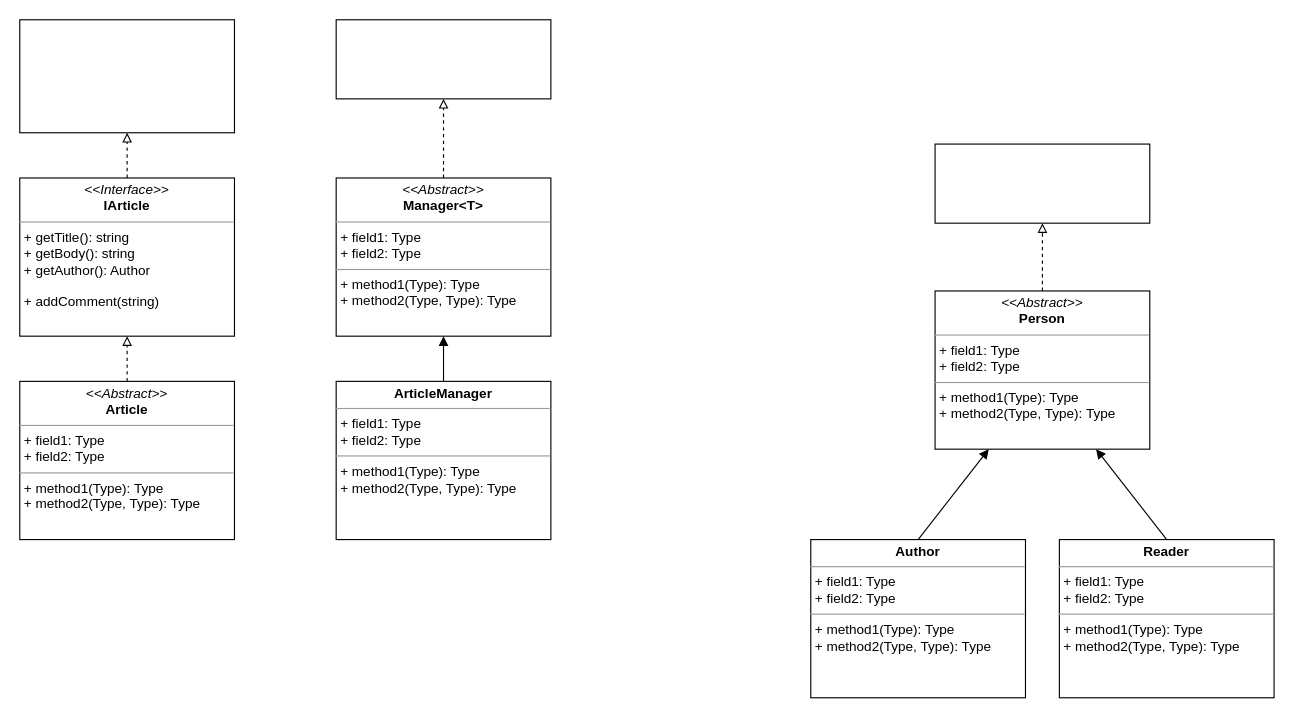
Image size: 1294x718. Some labels were removed from this diagram. The centre of each missing label's shape, as x and y in pixels:
<<Interface>> IManager<T>: point 443,59
<<Interface>> IObservable<T> Attach(IObserver<T>) Detach(IObserver<T>) Notify(): point 126,76
<<Interface>> IObserver<T> Update(T subject): point 1042,183
